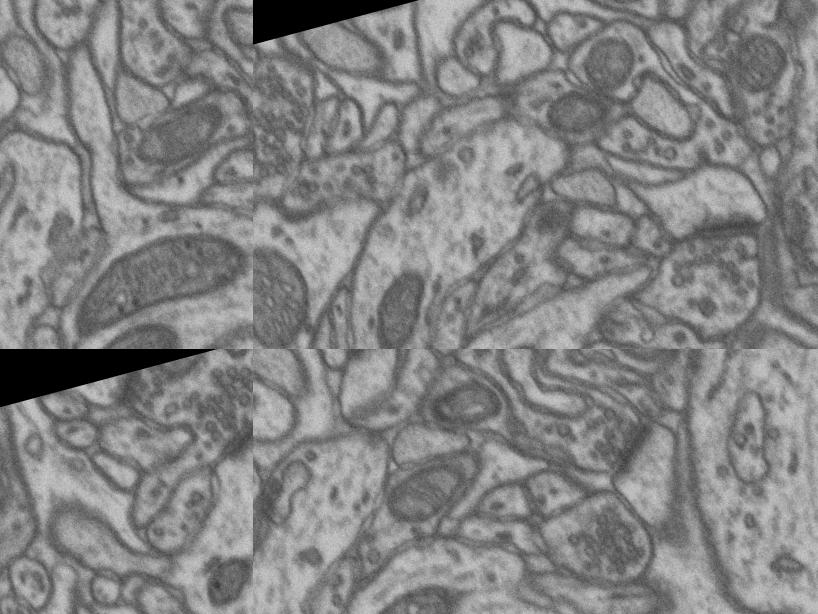mitochondria: (60, 216, 253, 334), (380, 445, 489, 530), (253, 229, 325, 349), (316, 566, 493, 614), (128, 91, 233, 171), (351, 265, 447, 349), (720, 20, 797, 103), (533, 76, 617, 150), (567, 24, 646, 99), (430, 373, 508, 439), (145, 349, 253, 395), (71, 313, 197, 349), (194, 544, 253, 614), (593, 349, 691, 382), (253, 88, 273, 206), (576, 0, 665, 20)
